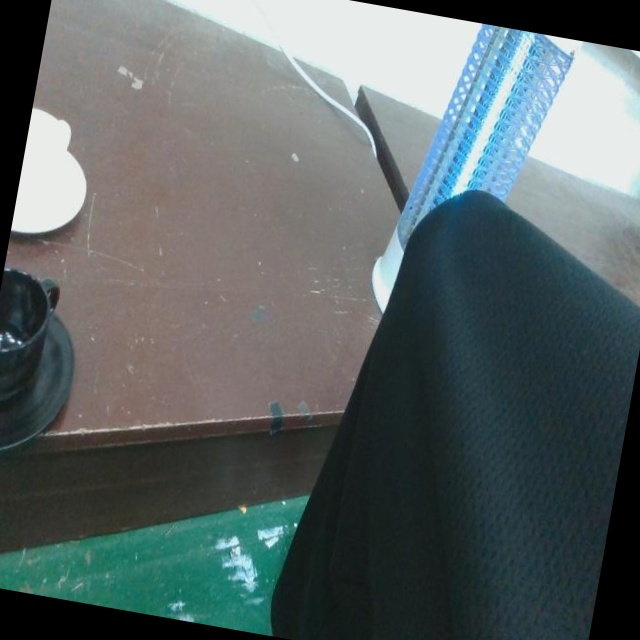black: (0, 267, 78, 468)
white: (21, 107, 92, 244)
